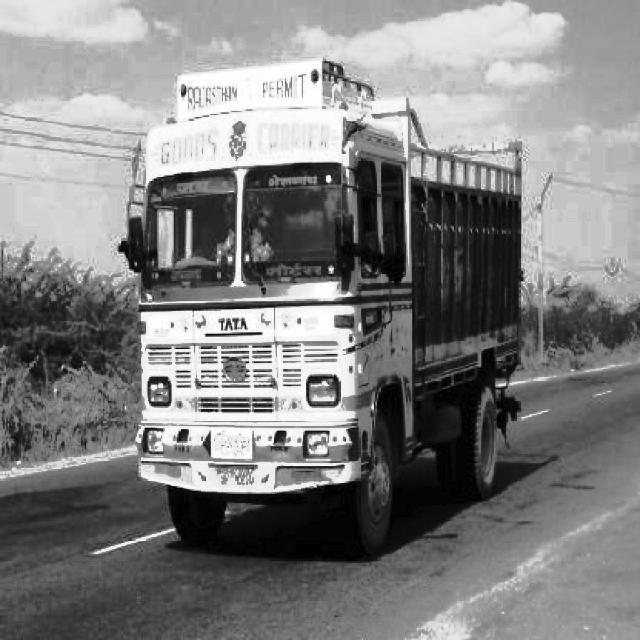HCV: (121, 103, 524, 544)
